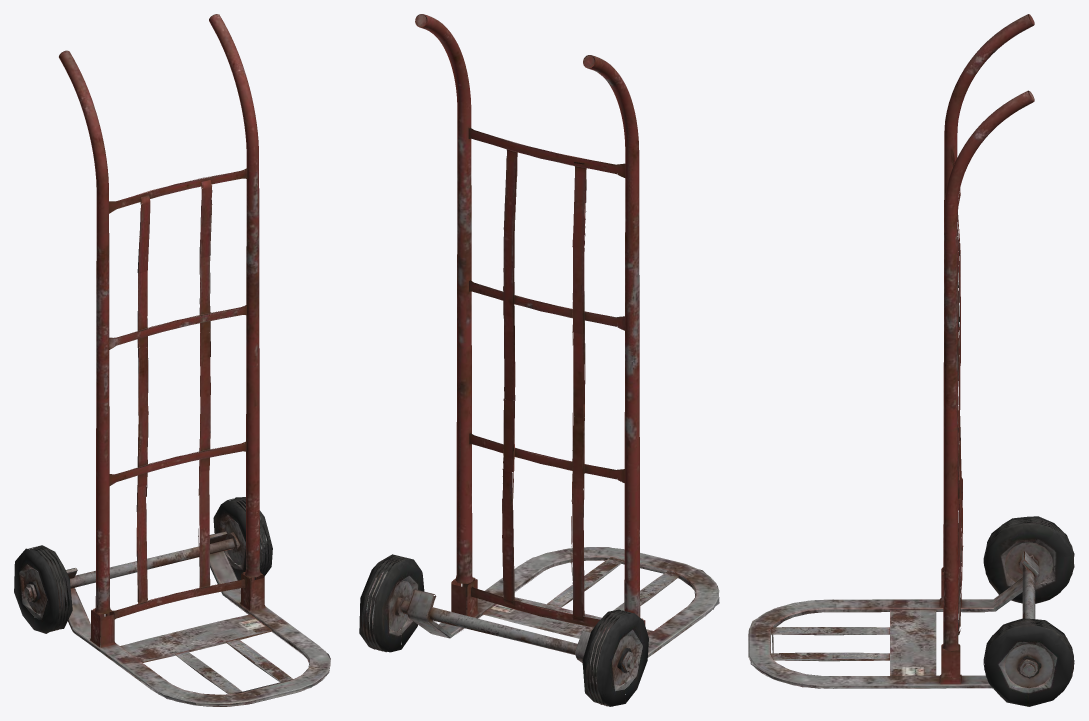
File: ph_hand_truck.glb
The picture shows the model from 3 angles, left to right: view 1: azimuth 30°, elevation 25°; view 2: azimuth 150°, elevation 25°; view 3: azimuth 270°, elevation 25°; orthographic projection. The views are drawn at different scales.
Parts seen in each view (by area): view 1: hand_truck; view 2: hand_truck; view 3: hand_truck.
Boxes of the visible parts, bbox=[...] form: hand_truck: bbox=[14, 14, 330, 706]; hand_truck: bbox=[359, 14, 719, 706]; hand_truck: bbox=[748, 14, 1074, 706].
Size of the model in its own units: 0.5933 by 1.4 by 0.6933.
1 material, 1 textured.
